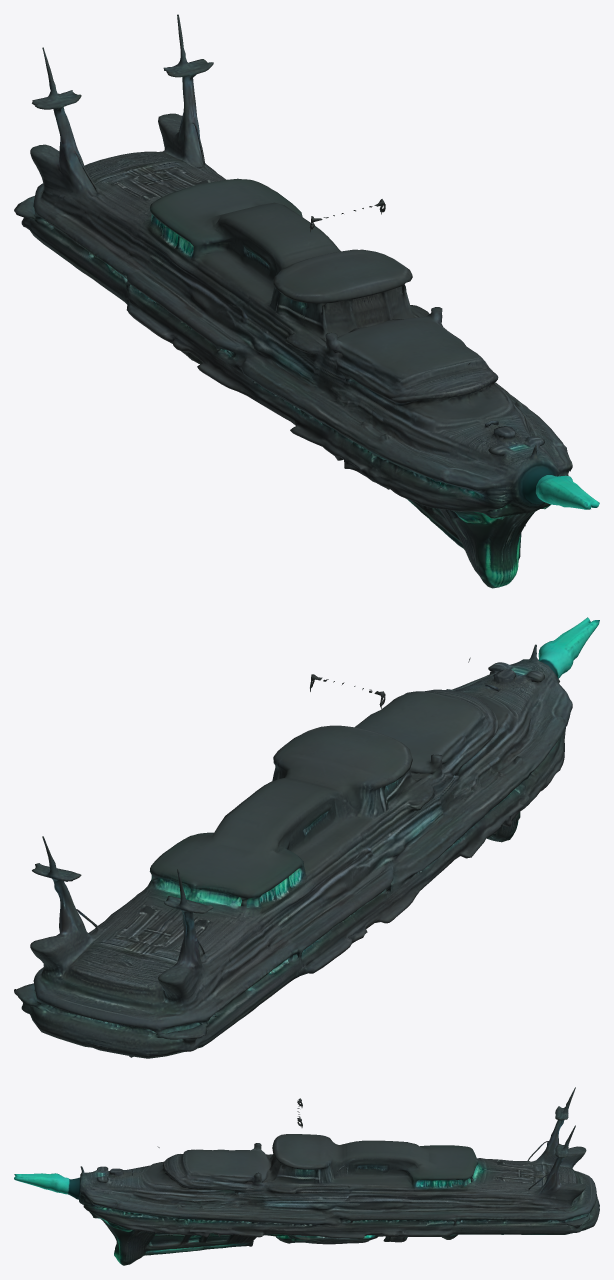
File: arkadia-navire.glb
3 renders of one model, top to bottom at view 1: azimuth 30°, elevation 25°; view 2: azimuth 150°, elevation 25°; view 3: azimuth 270°, elevation 25°, orthographic. The views are drawn at different scales.
Parts seen in each view (by area): view 1: model; view 2: model; view 3: model.
Boxes of the visible parts, x1,y1,x2,y2 form: model: [14, 14, 599, 588]; model: [14, 617, 599, 1058]; model: [14, 1087, 599, 1265].
Size of the model in its own units: 0.4135 by 0.5572 by 1.87.
Materials: 1 (1 with a texture image).
